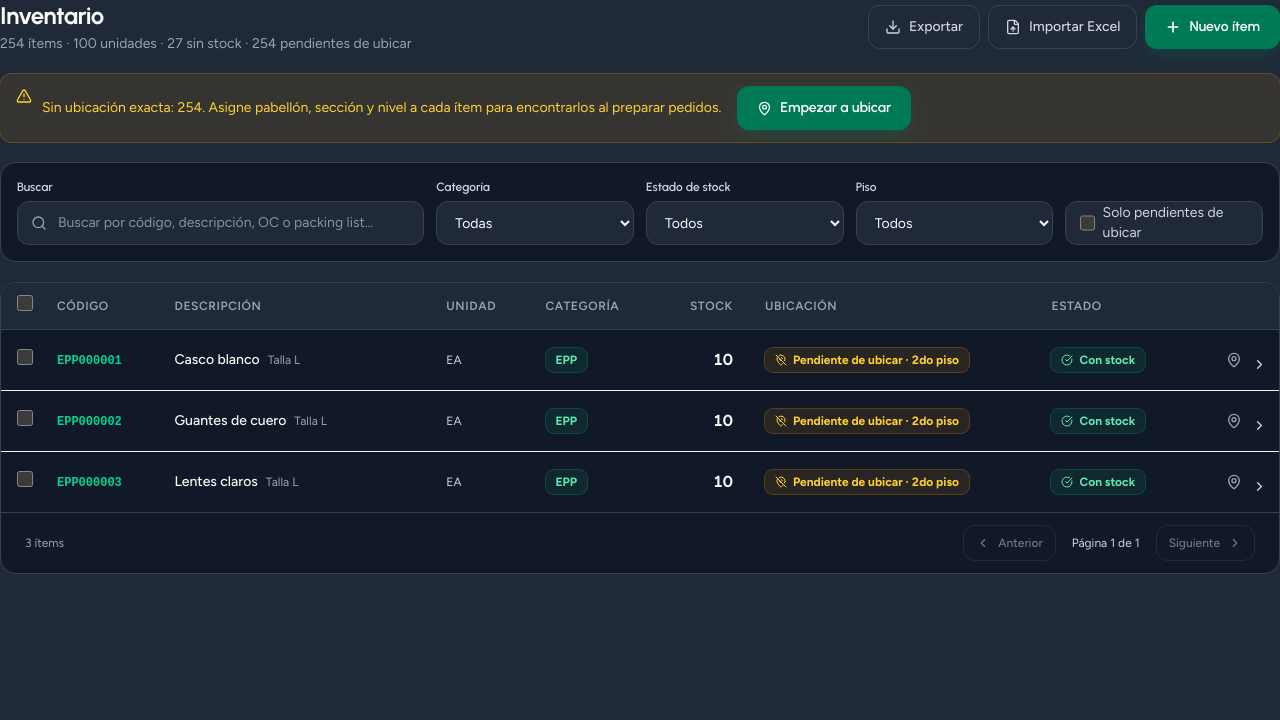
Test: InventarioPage — selección masiva › el diálogo de asignación masiva se cierra con Cancelar sin enviar nada
Check: the link "EPP000001" is shown, box x1=57 y1=354 x2=122 y2=368
Click the checkbox named "Seleccionar EPP000001". click: click(25, 357)
box: x1=17 y1=349 x2=33 y2=365
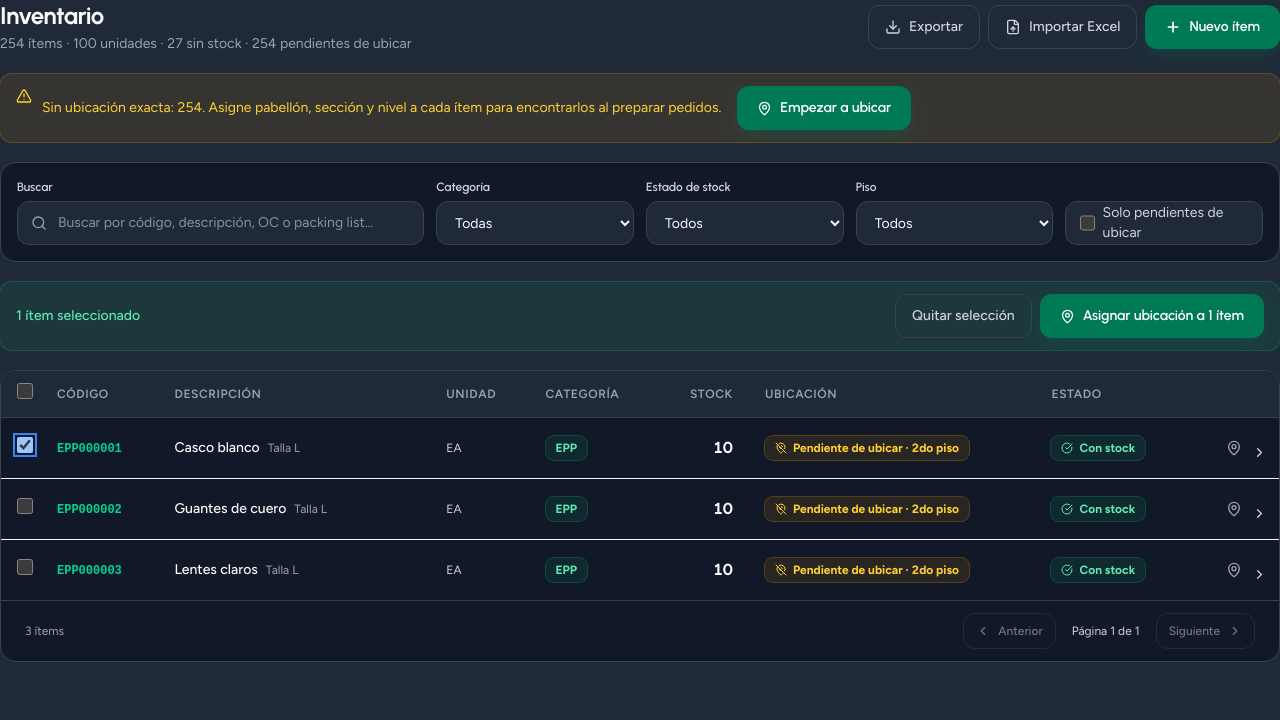
Click the checkbox named "Seleccionar EPP000002". click: click(25, 506)
box: x1=17 y1=498 x2=33 y2=514
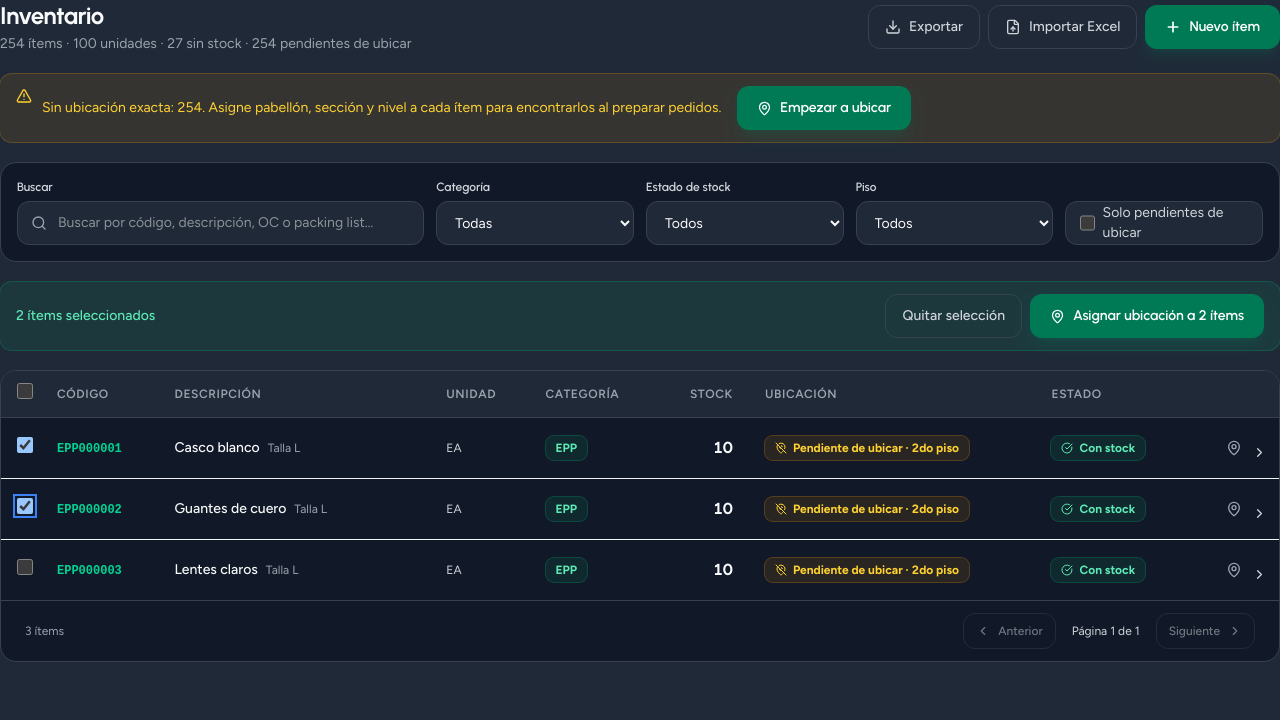
Click the button "Asignar ubicación a 2 ítems". click: click(1147, 316)
box: x1=1030 y1=294 x2=1264 y2=338
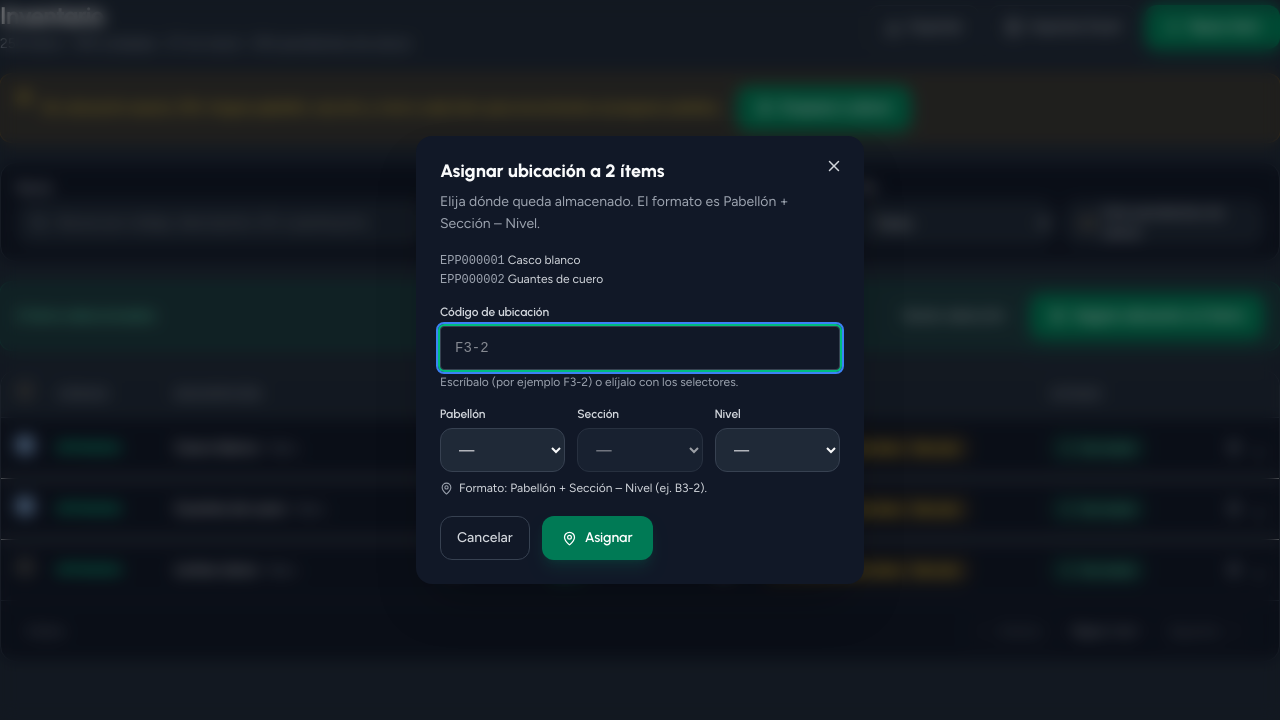
Click the button "Cancelar". click: click(485, 538)
box: x1=440 y1=516 x2=530 y2=560
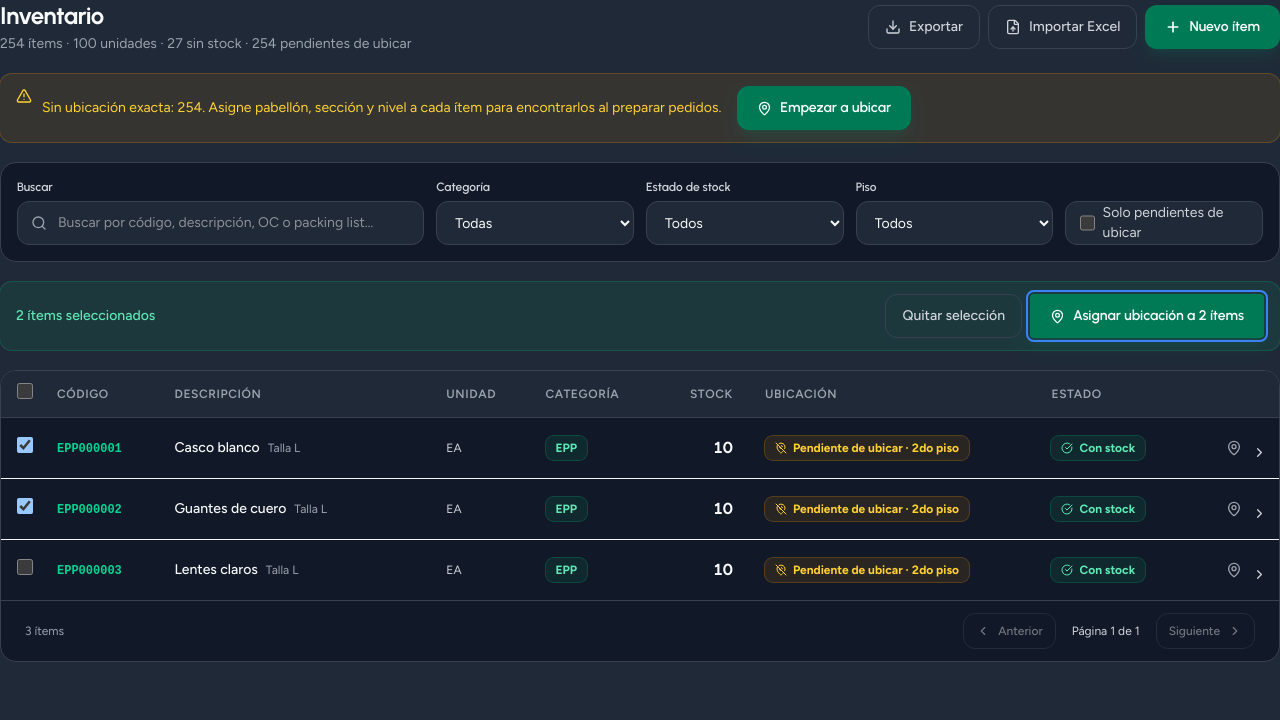
Check: the text "2 ítems seleccionados" is shown, box x1=16 y1=306 x2=155 y2=326
Check: the dialog is gone
